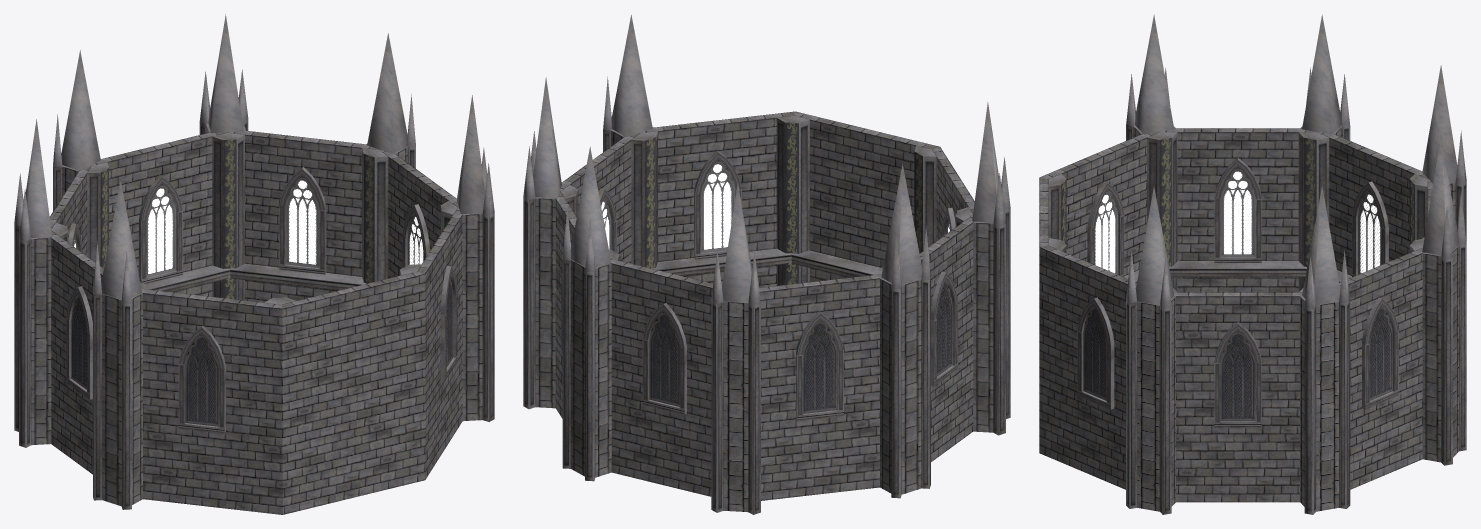
File: sanctum_upper_01.fbx
The picture shows the model from 3 angles, left to right: view 1: azimuth 30°, elevation 25°; view 2: azimuth 150°, elevation 25°; view 3: azimuth 270°, elevation 25°; orthographic projection.
Visible parts, largest first — view 1: sanctum_upper_01; view 2: sanctum_upper_01; view 3: sanctum_upper_01.
Part boxes in pixels (x1,y1,x2,y2): sanctum_upper_01: (14, 14, 494, 514); sanctum_upper_01: (523, 15, 1010, 514); sanctum_upper_01: (1039, 14, 1466, 514).
Size of the model in its own units: 4828 by 3713 by 4514.
